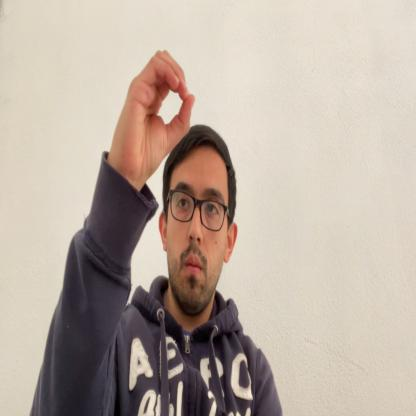O: (112, 44, 196, 193)
